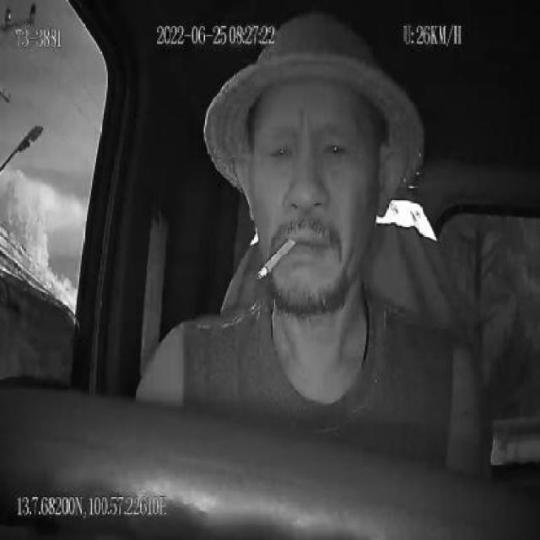smoking: (256, 234, 299, 280)
